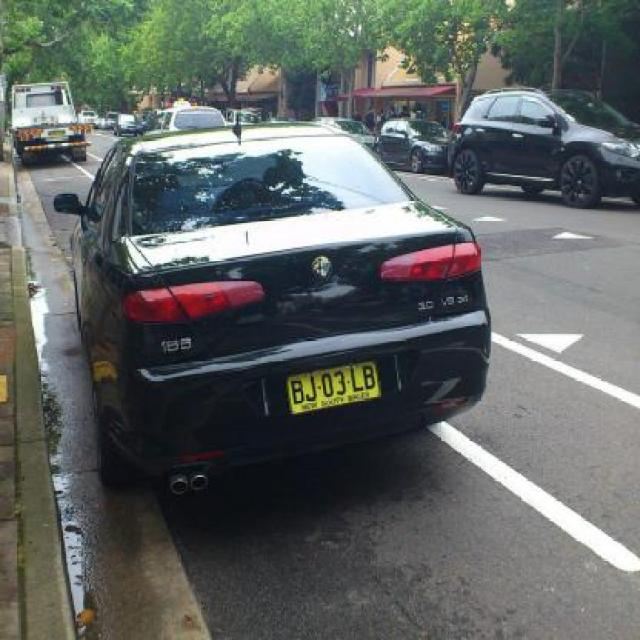License-Plates: (282, 356, 383, 422)
